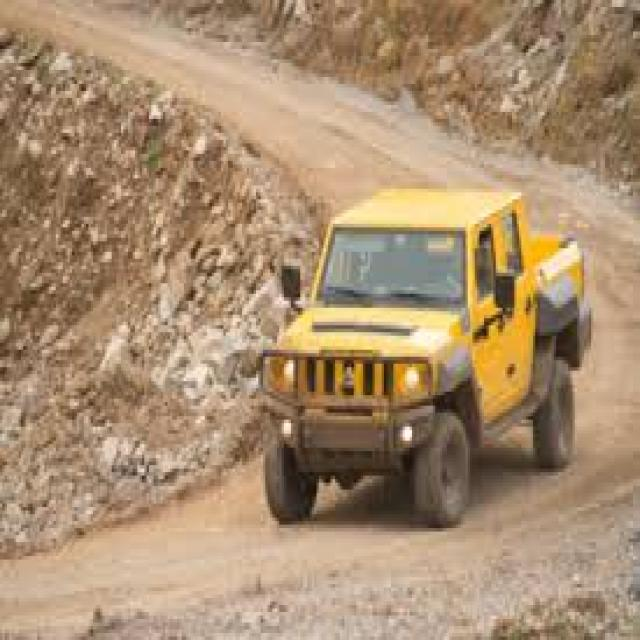light_vehicle: (244, 157, 610, 563)
